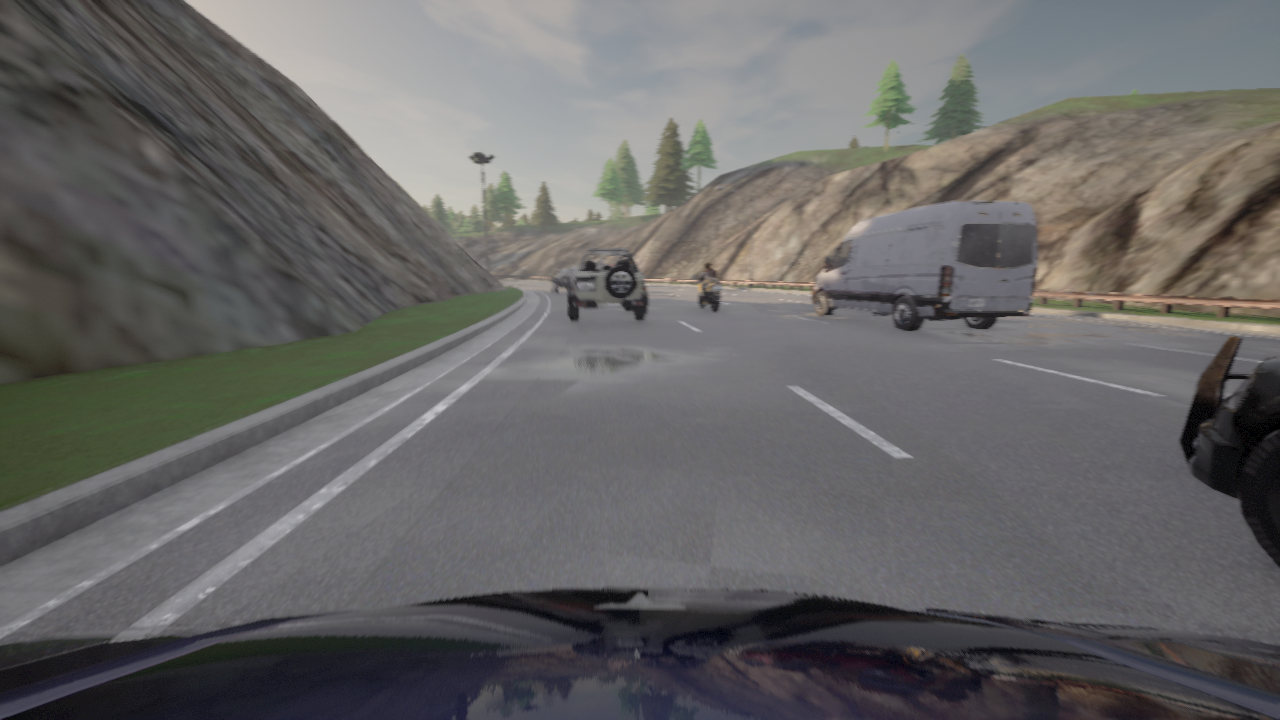cyclist: (0, 588, 1279, 719), (812, 201, 1039, 330), (1179, 337, 1279, 568), (568, 248, 648, 321), (692, 275, 722, 311), (548, 268, 574, 293)
